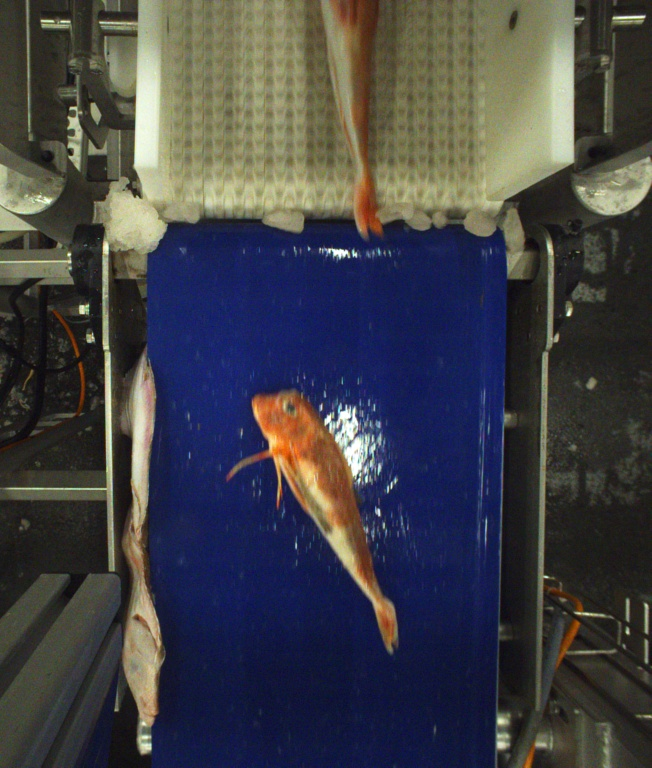GUU: (225, 390, 399, 654)
